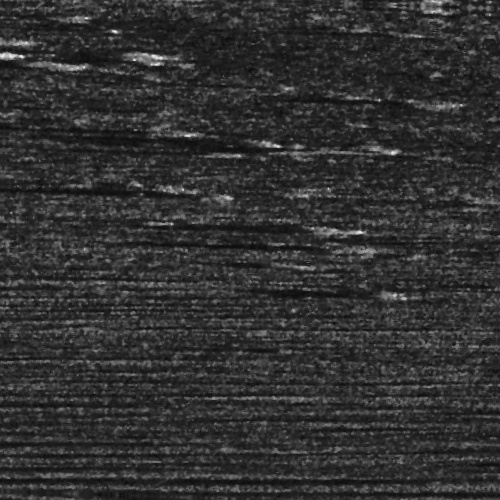object: (239, 137, 384, 156), (0, 65, 92, 74), (112, 51, 175, 64), (388, 87, 461, 98), (367, 22, 450, 31), (0, 51, 38, 70), (291, 220, 364, 229), (340, 241, 413, 248), (0, 42, 39, 55), (187, 190, 250, 197), (274, 258, 337, 265), (144, 131, 217, 136), (377, 285, 418, 290), (209, 150, 250, 155)
shadow: (121, 137, 311, 156), (76, 220, 327, 229), (239, 87, 425, 98), (0, 51, 143, 64), (25, 190, 218, 197), (192, 241, 376, 248), (282, 22, 408, 31), (35, 150, 229, 155), (209, 285, 397, 290), (0, 131, 181, 136), (243, 258, 305, 265), (0, 65, 46, 74), (467, 150, 500, 155)
